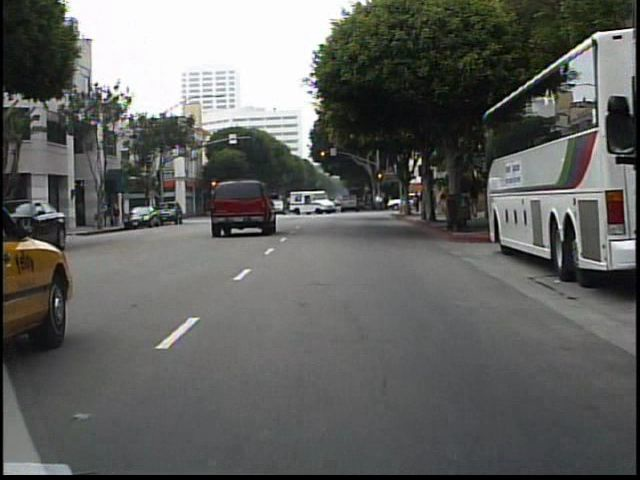person: (437, 182, 450, 221)
